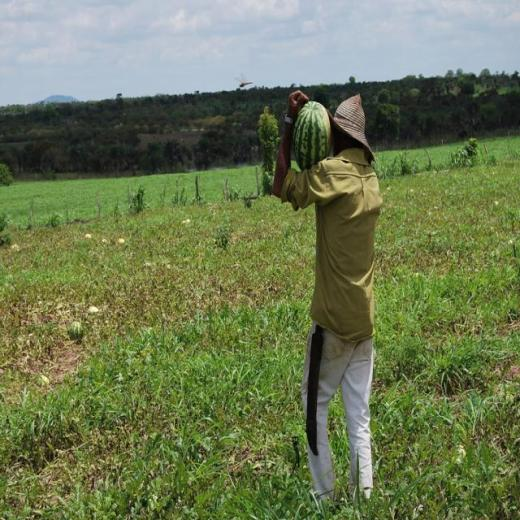Cherry: (291, 101, 333, 171)
